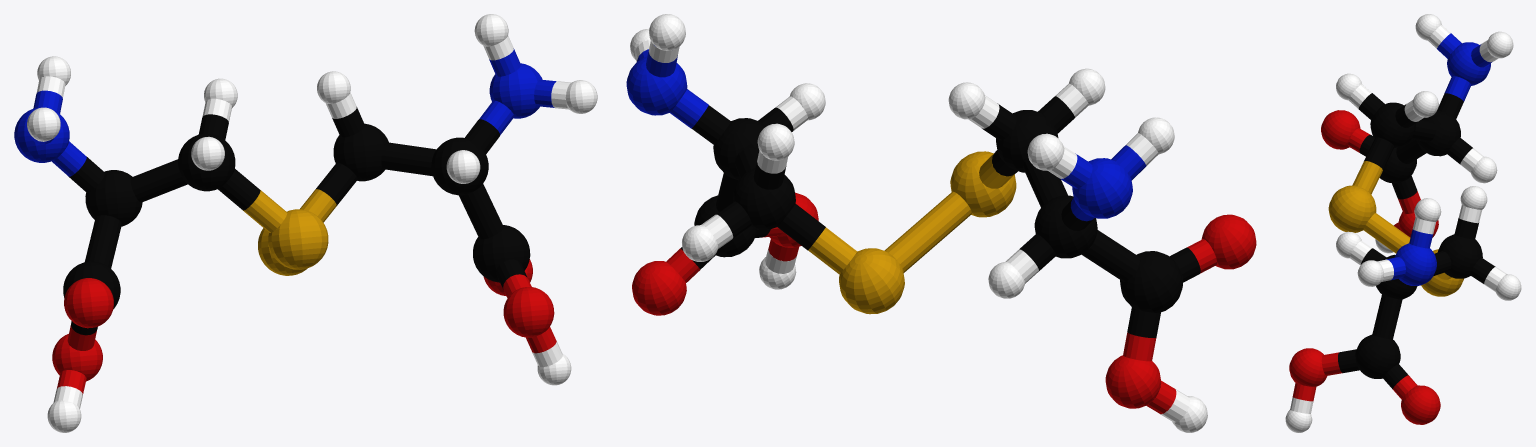
The model's file is dicysteine.obj.
3 renders of one model, left to right at view 1: azimuth 30°, elevation 25°; view 2: azimuth 150°, elevation 25°; view 3: azimuth 270°, elevation 25°, orthographic. The views are drawn at different scales.
Visible parts, largest first — view 1: Shape_Sphere.001_Shape_Sphere.002, Shape_Sphere.010_Shape_Sphere.011, Shape_Sphere.009_Shape_Sphere.010, Shape_Sphere.002_Shape_Sphere.003, Shape_Sphere.005_Shape_Sphere.006, Shape_Sphere.012_Shape_Sphere.013, Shape_Sphere.006_Shape_Sphere.007, Shape_Sphere.008_Shape_Sphere.009, Shape_Sphere.011_Shape_Sphere.012, Shape_Sphere.007_Shape_Sphere.008, Shape_Cylinder.033, Shape_Cylinder.029 (+25 smaller); view 2: Shape_Sphere_Shape_Sphere.001, Shape_Sphere.013_Shape_Sphere.014, Shape_Cylinder, Shape_Sphere.007_Shape_Sphere.008, Shape_Sphere.001_Shape_Sphere.002, Shape_Sphere.010_Shape_Sphere.011, Shape_Sphere.006_Shape_Sphere.007, Shape_Sphere.004_Shape_Sphere.005, Shape_Sphere.003_Shape_Sphere.004, Shape_Sphere.009_Shape_Sphere.010, Shape_Sphere.005_Shape_Sphere.006, Shape_Sphere.011_Shape_Sphere.012 (+28 smaller); view 3: Shape_Sphere.001_Shape_Sphere.002, Shape_Sphere.012_Shape_Sphere.013, Shape_Sphere.010_Shape_Sphere.011, Shape_Sphere.006_Shape_Sphere.007, Shape_Sphere.004_Shape_Sphere.005, Shape_Sphere.011_Shape_Sphere.012, Shape_Sphere.009_Shape_Sphere.010, Shape_Sphere.002_Shape_Sphere.003, Shape_Sphere.005_Shape_Sphere.006, Shape_Sphere.007_Shape_Sphere.008, Shape_Cylinder, Shape_Cylinder.030 (+47 smaller).
Boxes of the visible parts, left/top/right/bottom form: Shape_Sphere.001_Shape_Sphere.002: left=268, top=209, right=328, bottom=269; Shape_Sphere.010_Shape_Sphere.011: left=333, top=123, right=388, bottom=181; Shape_Sphere.009_Shape_Sphere.010: left=85, top=170, right=142, bottom=226; Shape_Sphere.002_Shape_Sphere.003: left=503, top=287, right=554, bottom=337; Shape_Sphere.005_Shape_Sphere.006: left=64, top=278, right=113, bottom=328; Shape_Sphere.012_Shape_Sphere.013: left=473, top=225, right=530, bottom=282; Shape_Sphere.006_Shape_Sphere.007: left=489, top=63, right=542, bottom=118; Shape_Sphere.008_Shape_Sphere.009: left=431, top=137, right=488, bottom=195; Shape_Sphere.011_Shape_Sphere.012: left=178, top=133, right=235, bottom=191; Shape_Sphere.007_Shape_Sphere.008: left=14, top=107, right=69, bottom=162; Shape_Cylinder.033: left=130, top=159, right=187, bottom=202; Shape_Cylinder.029: left=381, top=142, right=436, bottom=176; Shape_Sphere_Shape_Sphere.001: left=839, top=248, right=904, bottom=314; Shape_Sphere.013_Shape_Sphere.014: left=1120, top=251, right=1182, bottom=312; Shape_Cylinder: left=884, top=191, right=971, bottom=272; Shape_Sphere.007_Shape_Sphere.008: left=1072, top=158, right=1132, bottom=218; Shape_Sphere.001_Shape_Sphere.002: left=950, top=151, right=1016, bottom=217; Shape_Sphere.010_Shape_Sphere.011: left=733, top=168, right=795, bottom=229; Shape_Sphere.006_Shape_Sphere.007: left=626, top=56, right=687, bottom=115; Shape_Sphere.004_Shape_Sphere.005: left=632, top=261, right=686, bottom=315; Shape_Sphere.003_Shape_Sphere.004: left=1105, top=355, right=1161, bottom=408; Shape_Sphere.009_Shape_Sphere.010: left=1034, top=195, right=1097, bottom=258; Shape_Sphere.005_Shape_Sphere.006: left=1201, top=214, right=1256, bottom=269; Shape_Sphere.011_Shape_Sphere.012: left=996, top=110, right=1058, bottom=172; Shape_Sphere.001_Shape_Sphere.002: left=1328, top=185, right=1376, bottom=232; Shape_Sphere.012_Shape_Sphere.013: left=1355, top=334, right=1400, bottom=378; Shape_Sphere.010_Shape_Sphere.011: left=1437, top=234, right=1482, bottom=278; Shape_Sphere.006_Shape_Sphere.007: left=1394, top=243, right=1436, bottom=285; Shape_Sphere.004_Shape_Sphere.005: left=1401, top=385, right=1440, bottom=424; Shape_Sphere.011_Shape_Sphere.012: left=1370, top=102, right=1415, bottom=147; Shape_Sphere.009_Shape_Sphere.010: left=1417, top=111, right=1460, bottom=156; Shape_Sphere.002_Shape_Sphere.003: left=1289, top=348, right=1327, bottom=387; Shape_Sphere.005_Shape_Sphere.006: left=1321, top=110, right=1360, bottom=149; Shape_Sphere.007_Shape_Sphere.008: left=1447, top=42, right=1490, bottom=85; Shape_Cylinder: left=1363, top=213, right=1410, bottom=253; Shape_Cylinder.030: left=1372, top=295, right=1402, bottom=339.
Bounding box in the file's own units: 1.41 × 0.7961 × 0.667.
